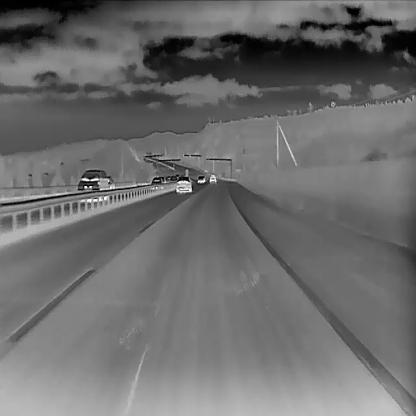car: (76, 168, 109, 202), (176, 174, 192, 192), (150, 174, 163, 188), (196, 174, 206, 183), (167, 174, 176, 183), (208, 173, 216, 182)
